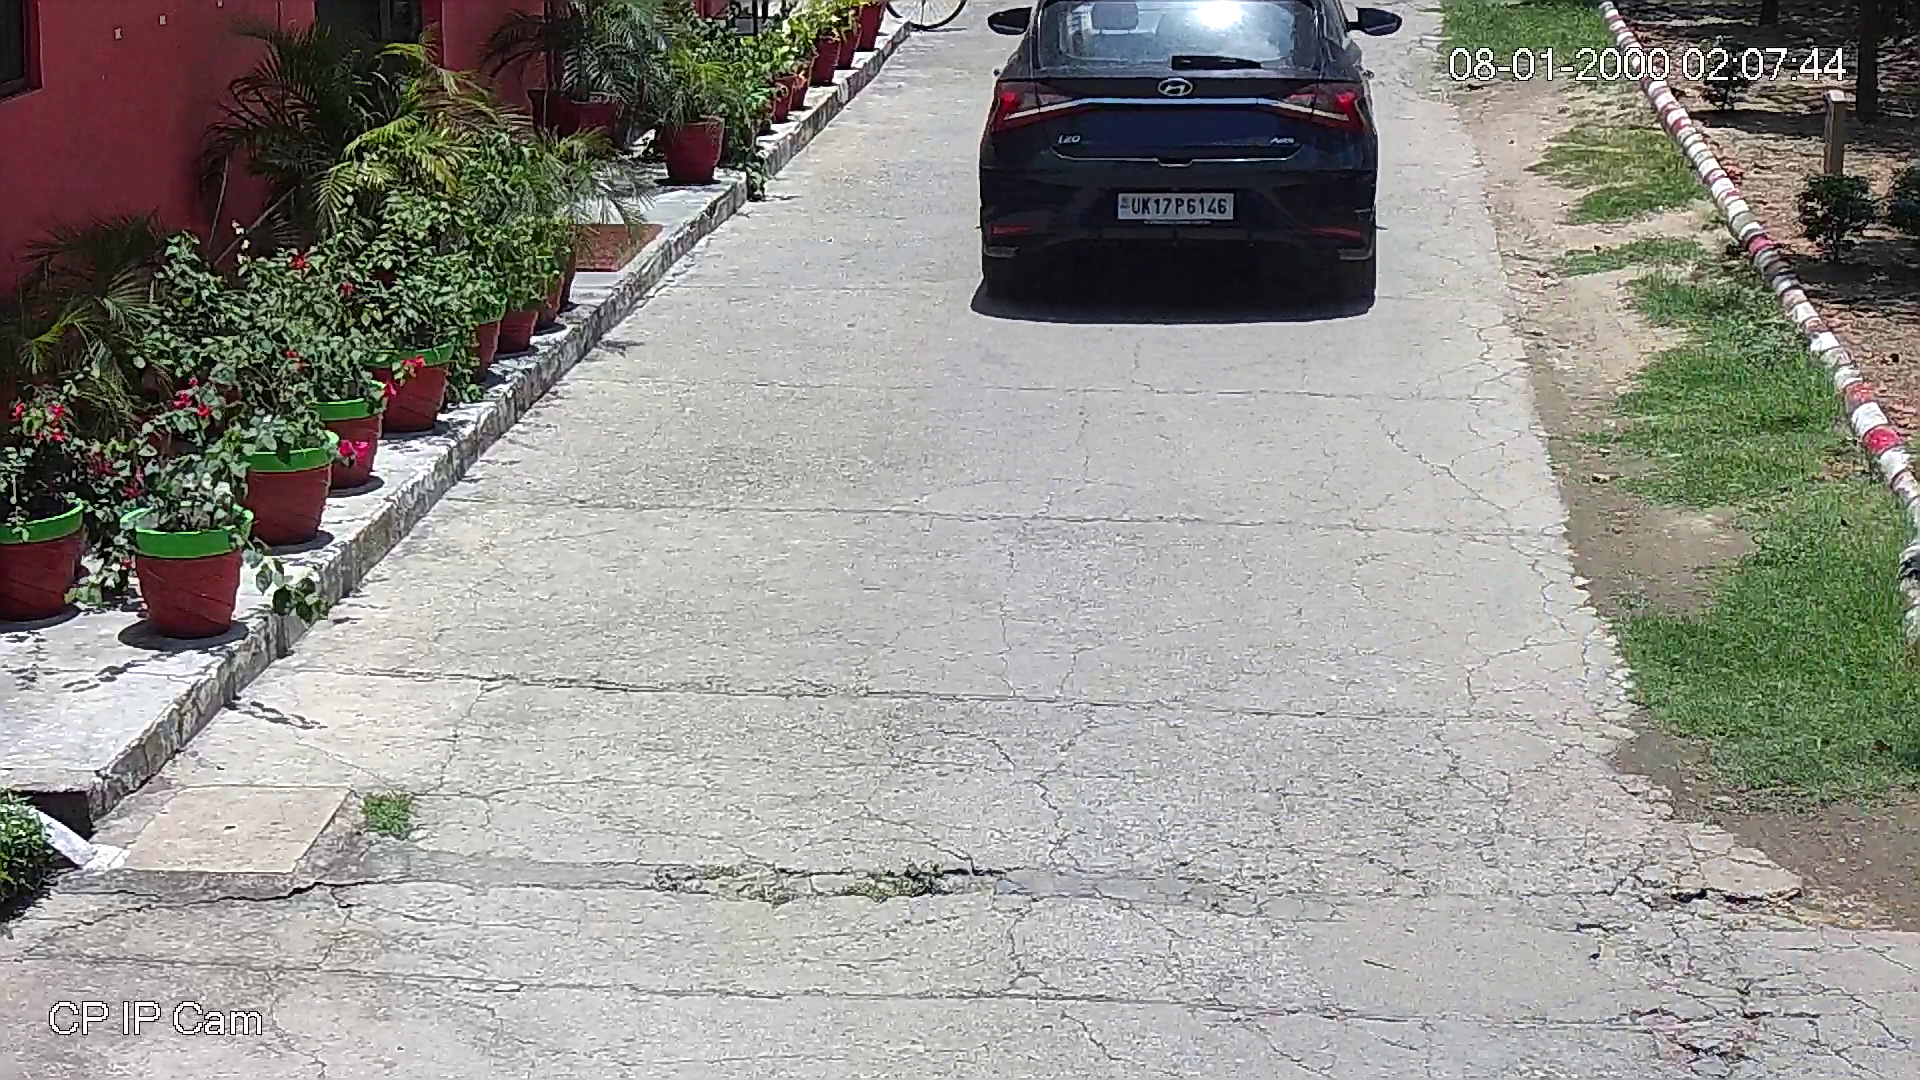plate: (1110, 187, 1242, 224)
